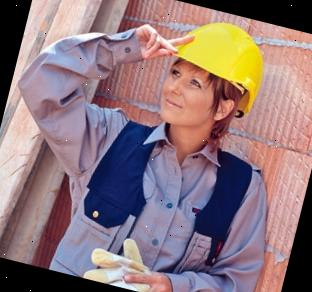helmet: (156, 9, 276, 116)
wear: (55, 121, 272, 292)
